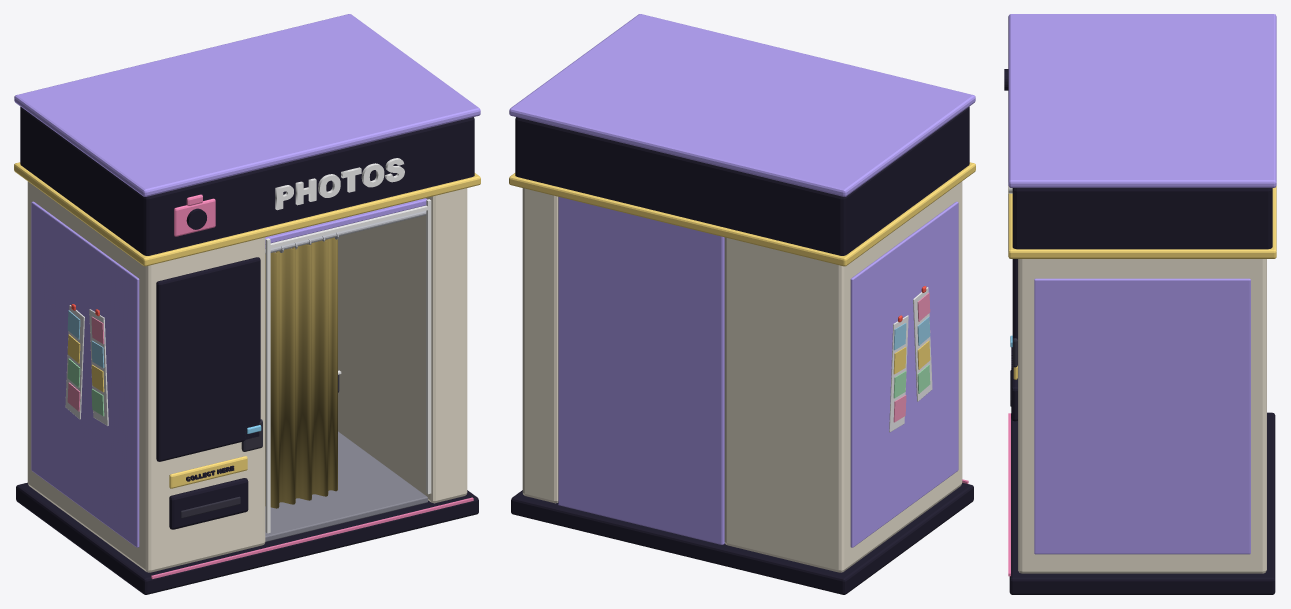
Rendered from StreetMachine_PhotoBooth.fbx.
The picture shows the model from 3 angles, left to right: view 1: azimuth 30°, elevation 25°; view 2: azimuth 150°, elevation 25°; view 3: azimuth 270°, elevation 25°; orthographic projection. The views are drawn at different scales.
Visible parts, largest first — view 1: Body, Neon_White, Neon_Pink; view 2: Body; view 3: Body, Neon_Pink.
Boxes of the visible parts, x1,y1,x2,y2 form: Body: (14, 14, 480, 594); Neon_White: (265, 158, 431, 533); Neon_Pink: (151, 194, 473, 578); Body: (509, 14, 975, 594); Body: (1004, 14, 1276, 594); Neon_Pink: (1008, 413, 1010, 576).
Size of the model in its own units: 7.35 by 8.46 by 5.03.
Materials: 5 (1 with a texture image).
